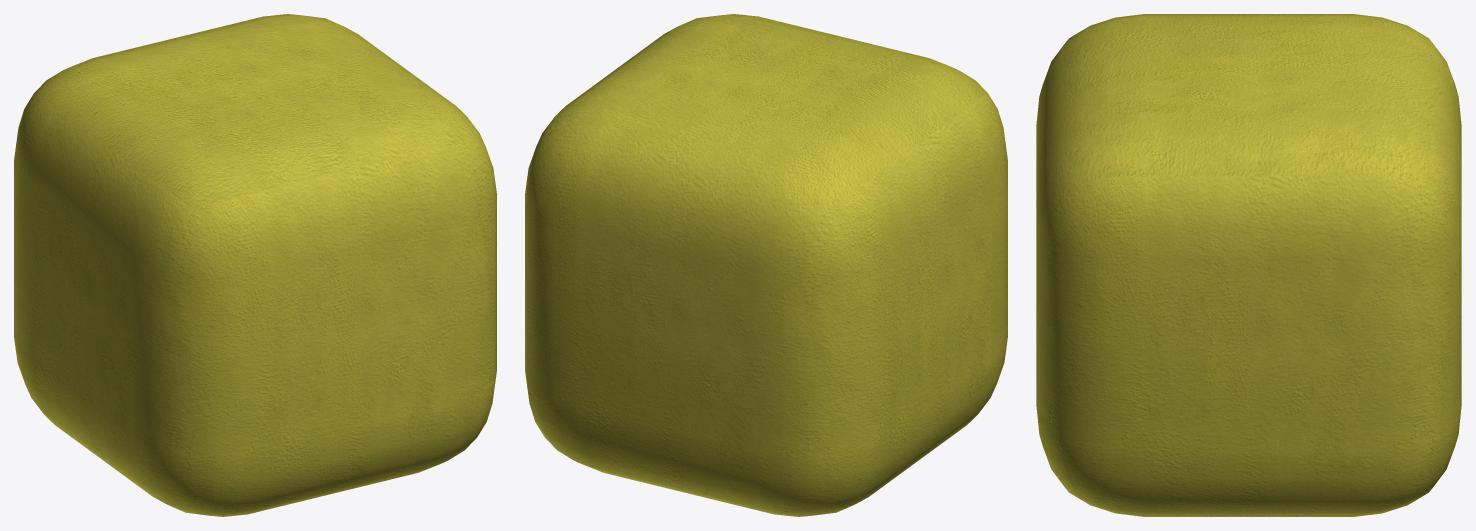
The model's file is sprayfoam.glb.
The picture shows the model from 3 angles, left to right: view 1: azimuth 30°, elevation 25°; view 2: azimuth 150°, elevation 25°; view 3: azimuth 270°, elevation 25°; orthographic projection. The views are drawn at different scales.
Parts seen in each view (by area): view 1: Sprayfoam_v2; view 2: Sprayfoam_v2; view 3: Sprayfoam_v2.
Part boxes in pixels (bbox=[...]): Sprayfoam_v2: bbox=[14, 14, 496, 516]; Sprayfoam_v2: bbox=[525, 14, 1007, 516]; Sprayfoam_v2: bbox=[1036, 14, 1461, 516].
Bounding box in the file's own units: 1 × 1 × 1.
Materials: 1 (1 with a texture image).
